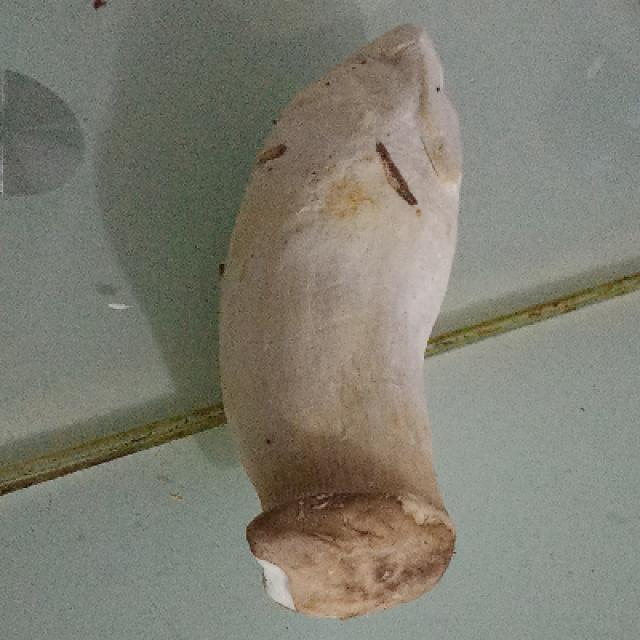Pleurotus eryngii: (216, 25, 466, 615)
